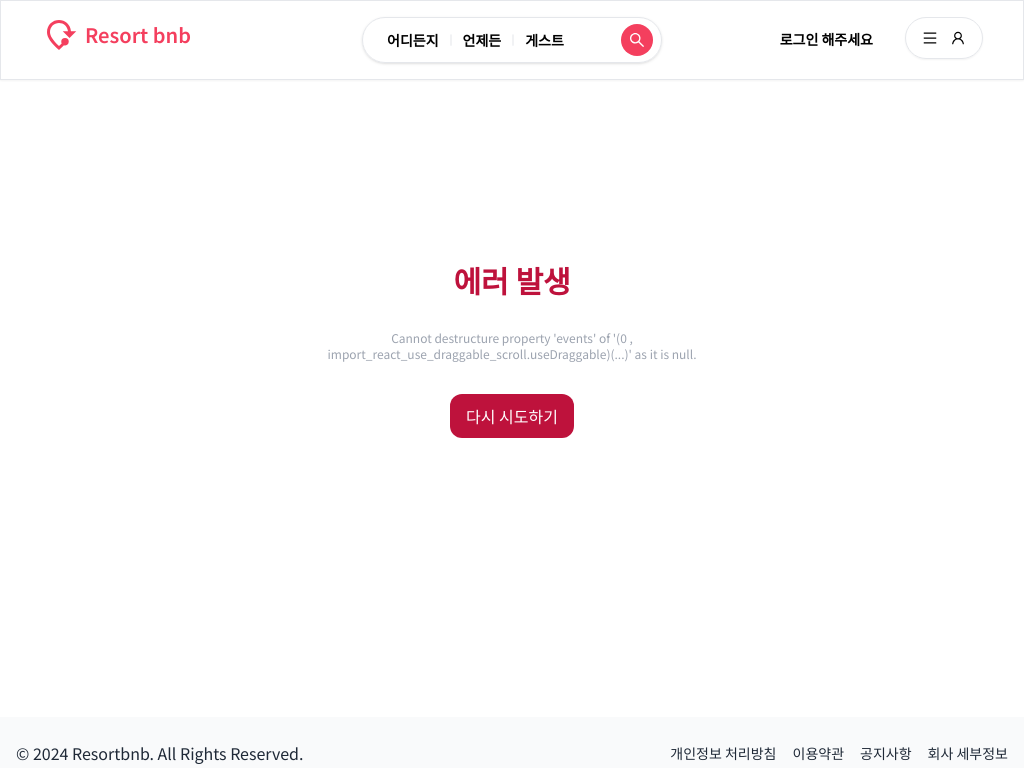
Test: 지역 필터 테스트 진행 › 지역 필터 열기 버튼을 클릭해서 지역 검색 필터를 확인
Click the element with test id "filter-open-btn". click: (637, 40)
box: [621,24,653,56]
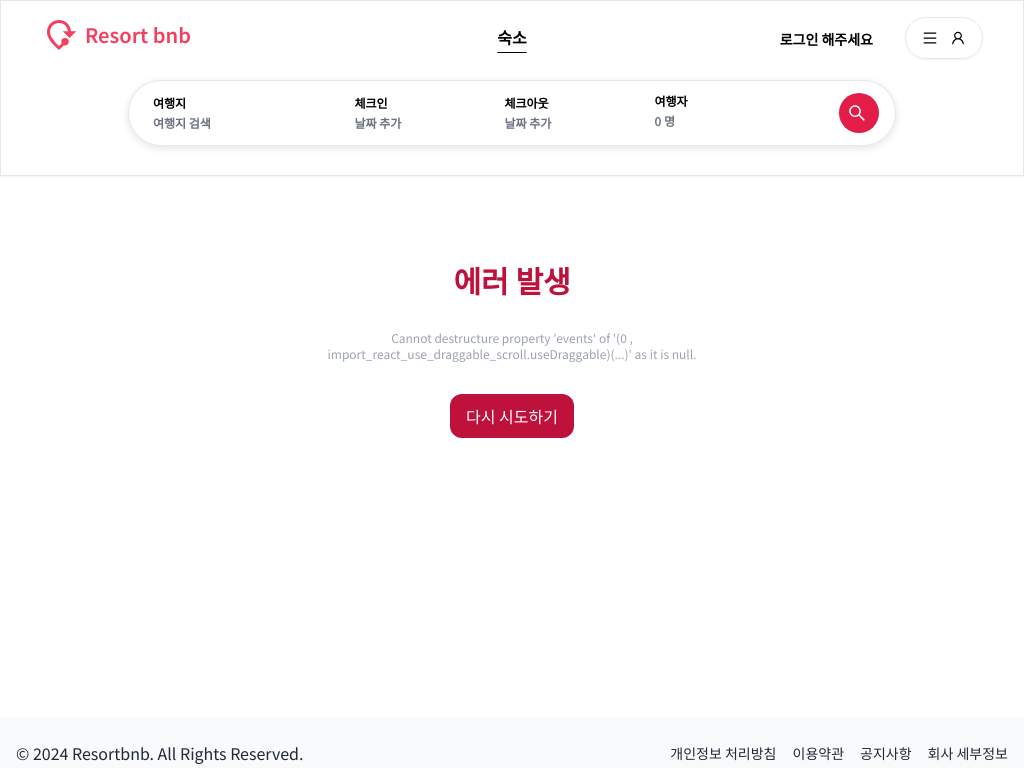
Click the button with test id "filter-location-btn". click: (230, 113)
box: [129,81,330,145]
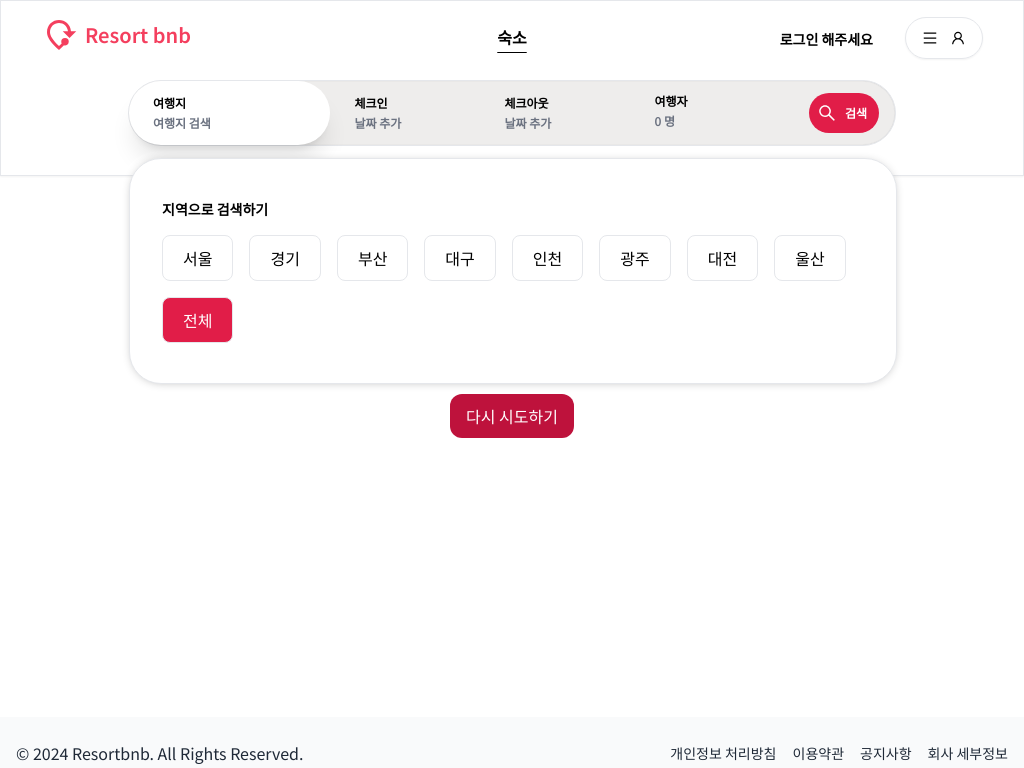
Result: the text "지역으로 검색하기" is shown at [162,199,268,219]
